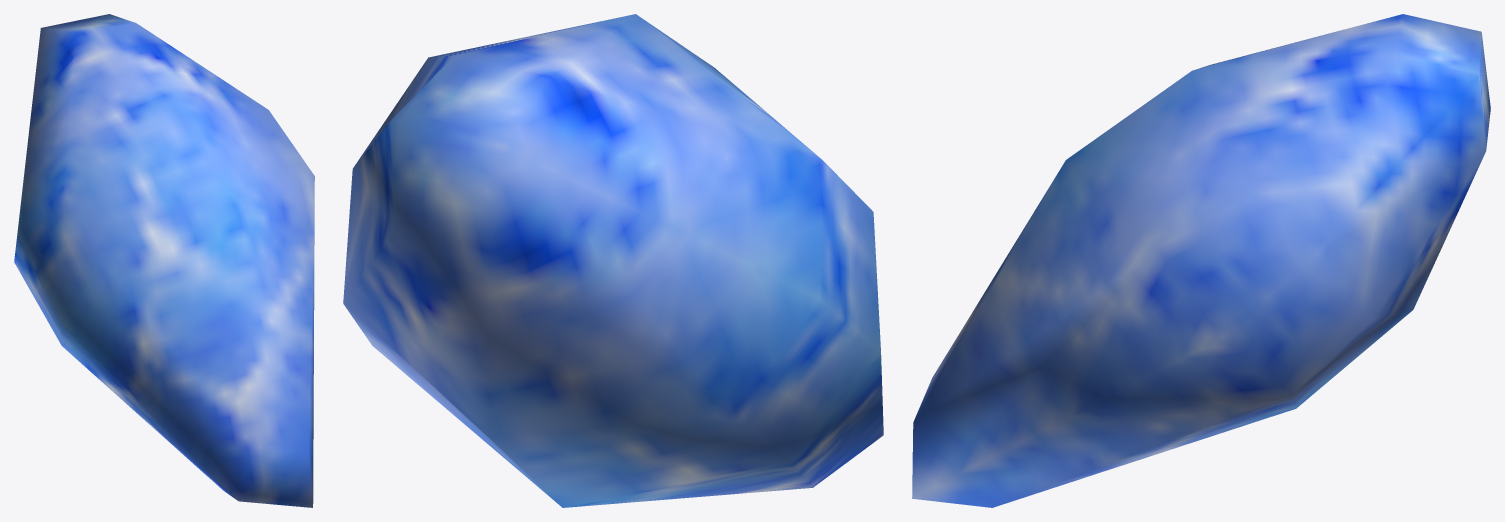
Rendered from zw_bluebaozhu.FBX.
3 views of the same model, side by side, from view 1: azimuth 30°, elevation 25°; view 2: azimuth 150°, elevation 25°; view 3: azimuth 270°, elevation 25° (orthographic). The views are drawn at different scales.
Parts seen in each view (by area): view 1: baozhu_blue; view 2: baozhu_blue; view 3: baozhu_blue.
Boxes of the visible parts, left/top/right/bottom form: baozhu_blue: left=14, top=14, right=314, bottom=507; baozhu_blue: left=343, top=14, right=883, bottom=507; baozhu_blue: left=912, top=14, right=1490, bottom=507.
Bounding box in the file's own units: 8.81 × 10.98 × 12.36.
